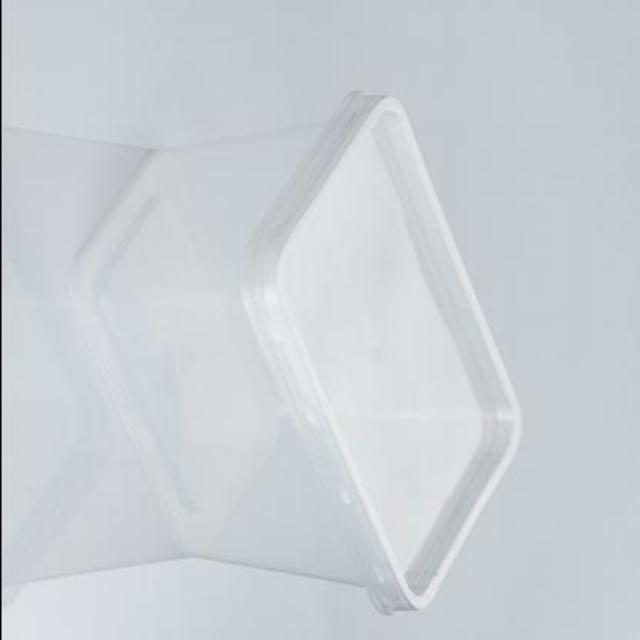plastic_box: (64, 93, 522, 622)
